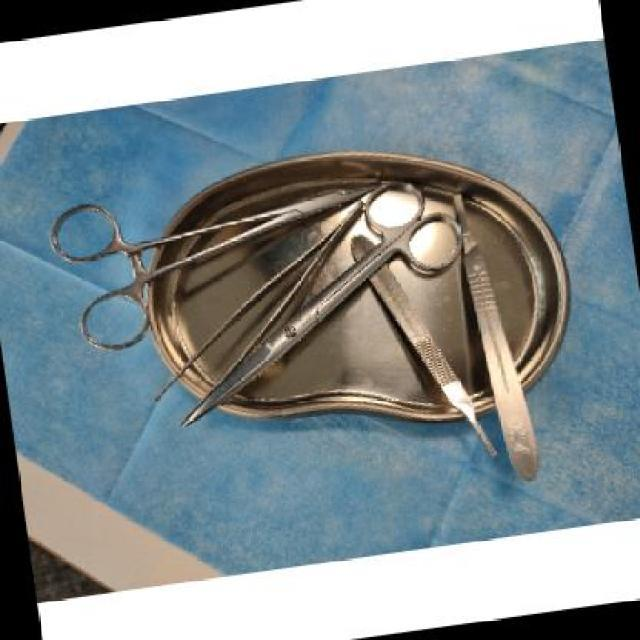tools_table: (24, 112, 598, 506)
